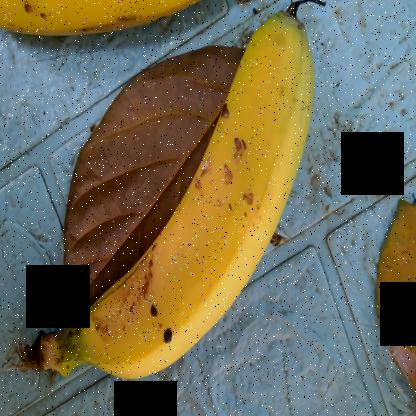ripe: (92, 1, 336, 374)
